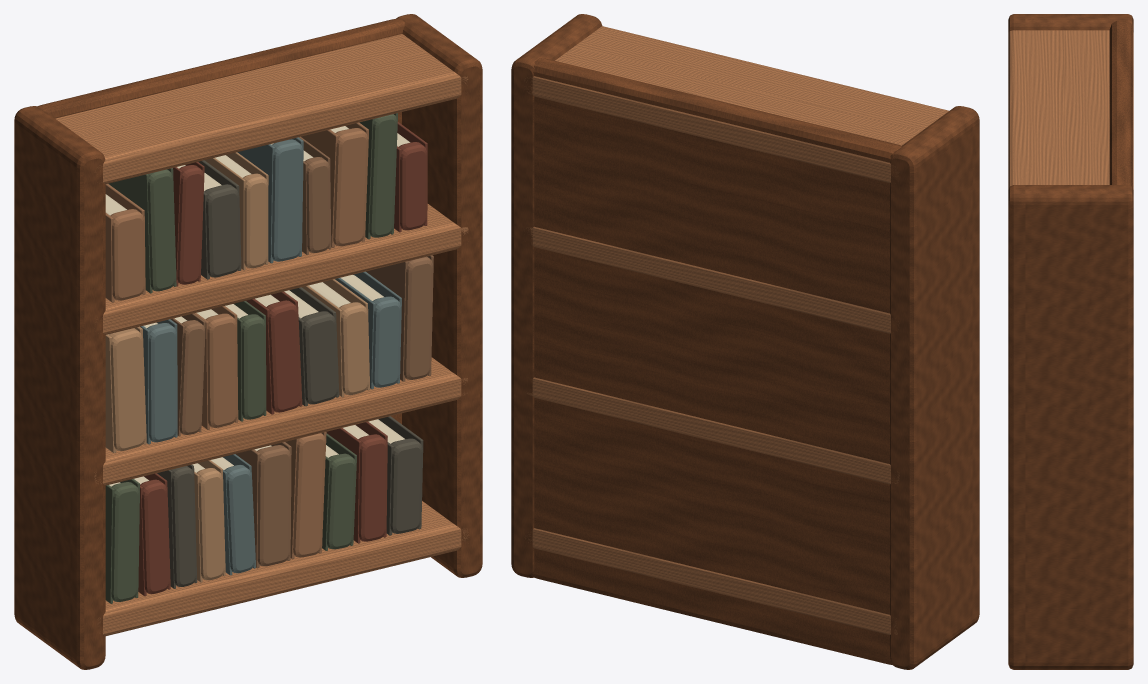
The model's file is bookshelf.glb.
3 views of the same model, side by side, from view 1: azimuth 30°, elevation 25°; view 2: azimuth 150°, elevation 25°; view 3: azimuth 270°, elevation 25° (orthographic). The views are drawn at different scales.
Parts seen in each view (by area): view 1: bookshelf, book (×30); view 2: bookshelf; view 3: bookshelf.
Boxes of the visible parts, box(x1,y1,x2,y2) form: bookshelf: box(14, 14, 482, 669); book (×30): box(105, 113, 433, 603); bookshelf: box(511, 14, 979, 669); bookshelf: box(1008, 14, 1133, 669).
Bounding box in the file's own units: 1.18 × 1.44 × 0.34.
Materials: 10 (2 with a texture image).
